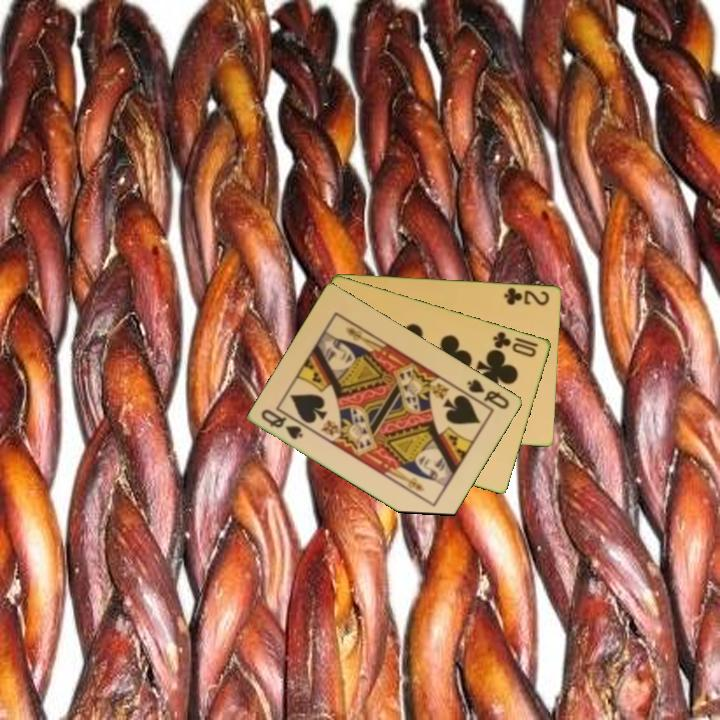10c: (490, 328, 541, 360)
2c: (501, 284, 552, 308)
Qs: (464, 375, 513, 412), (258, 405, 306, 442)
